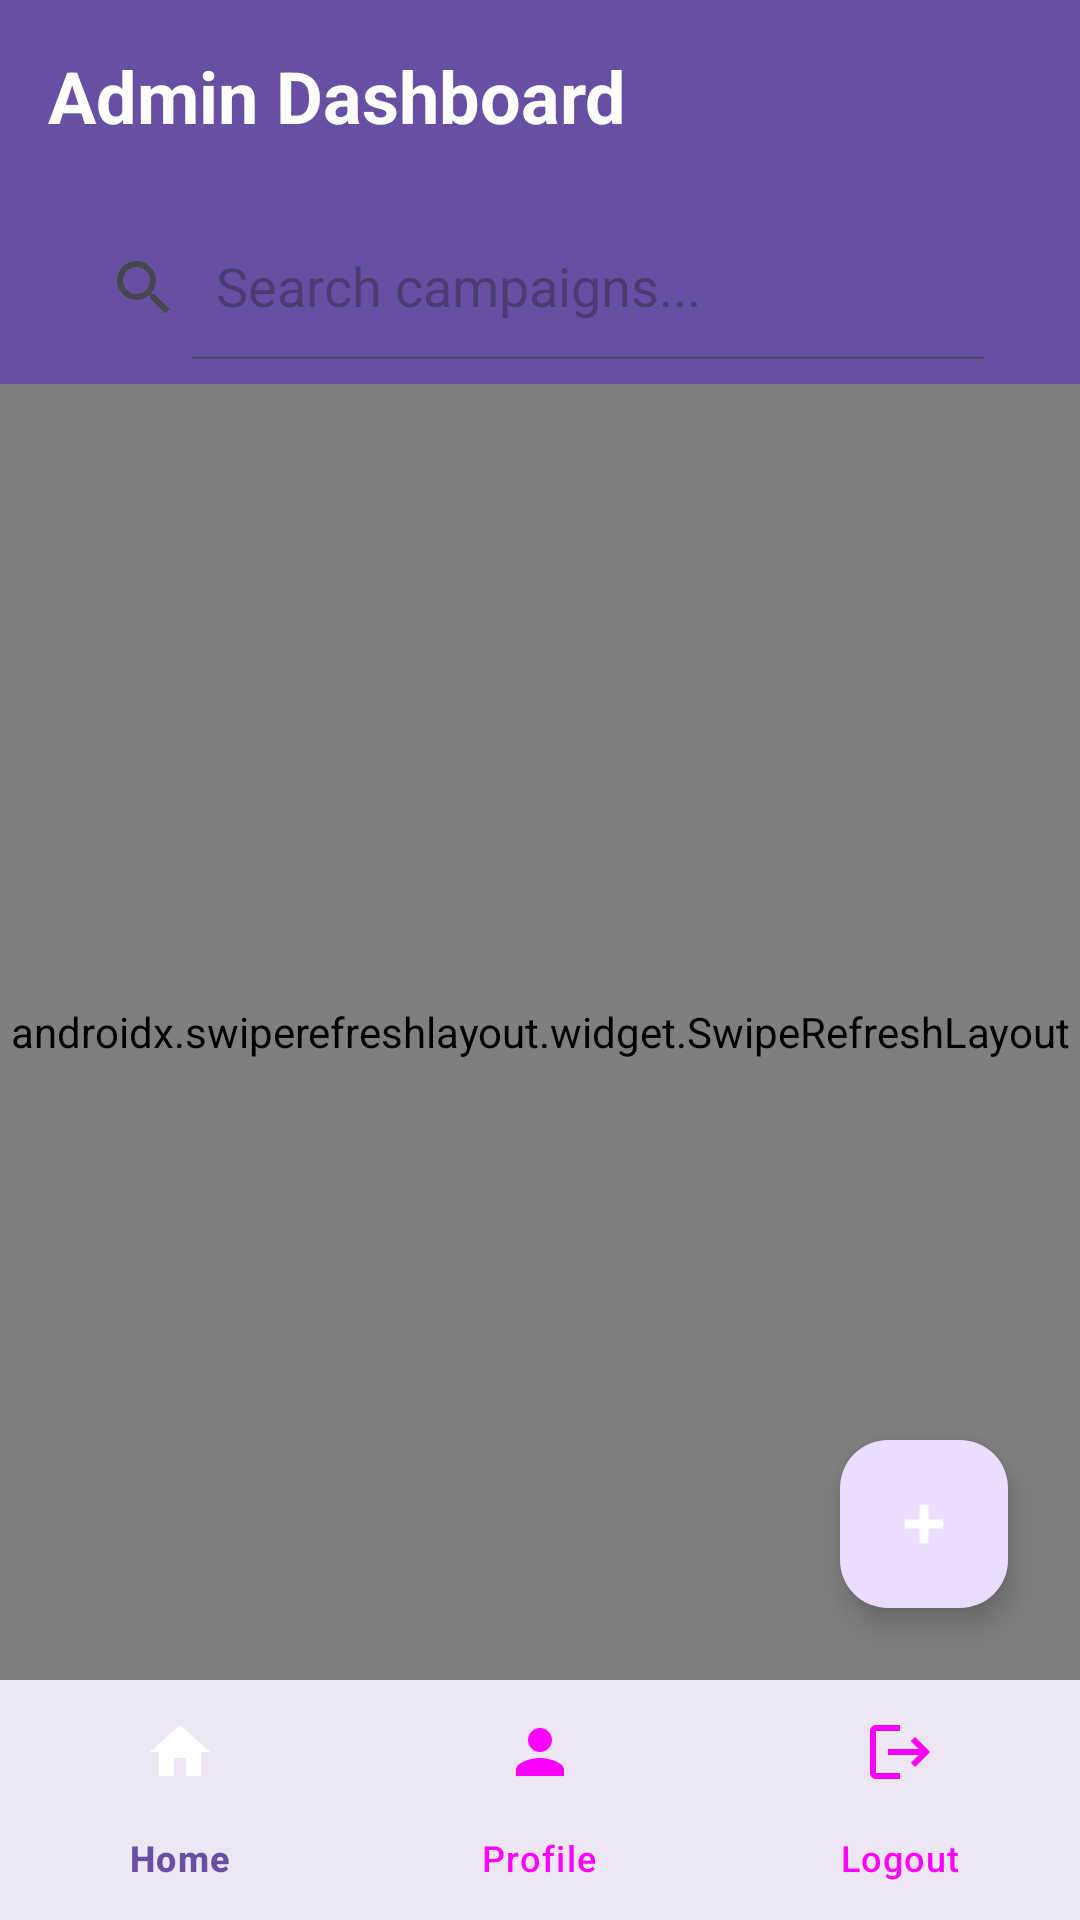

Icons on this 1080 x 1920 Android screen, each with the point to tap as (x,y):
add: (924,1524)
